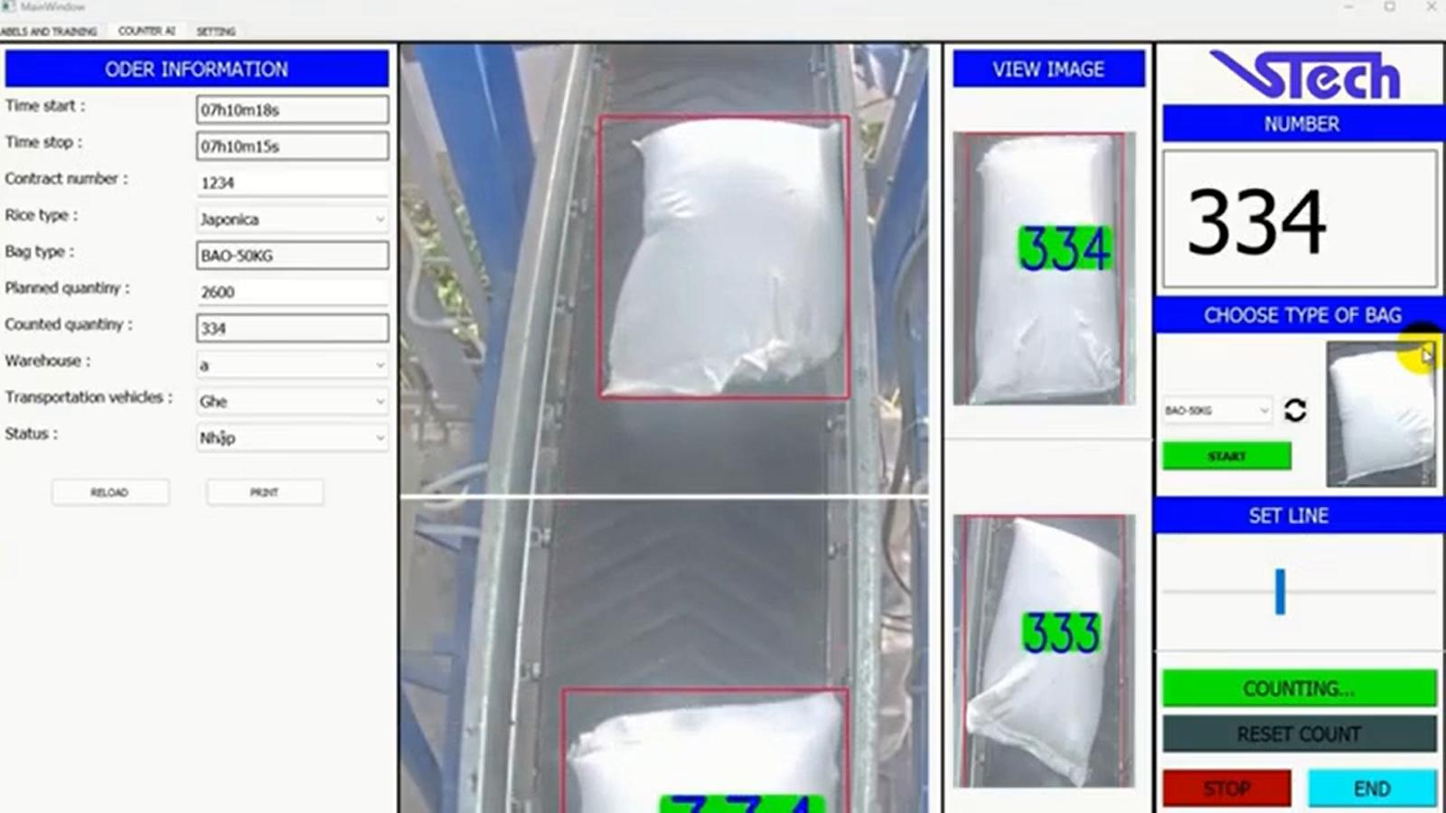rice-bag: (604, 118, 847, 398), (965, 135, 1122, 404), (966, 520, 1118, 785)
